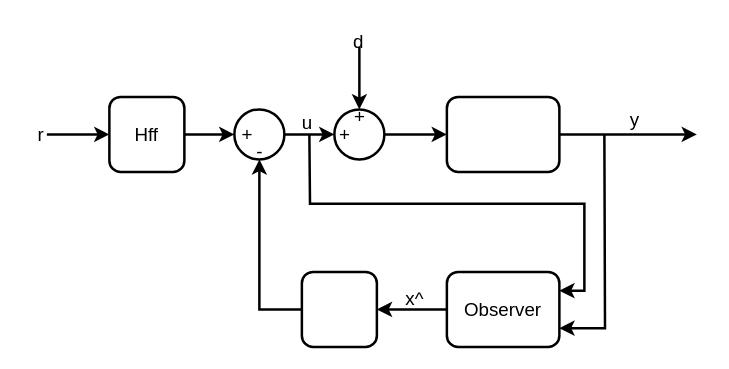
Image size: 729x369. Some labels were removed from this diagram. Here are the shapes that lost their labels. From the top down, the box of each, then its label:
(445, 95, 560, 172): System
(300, 270, 378, 348): Hfb
